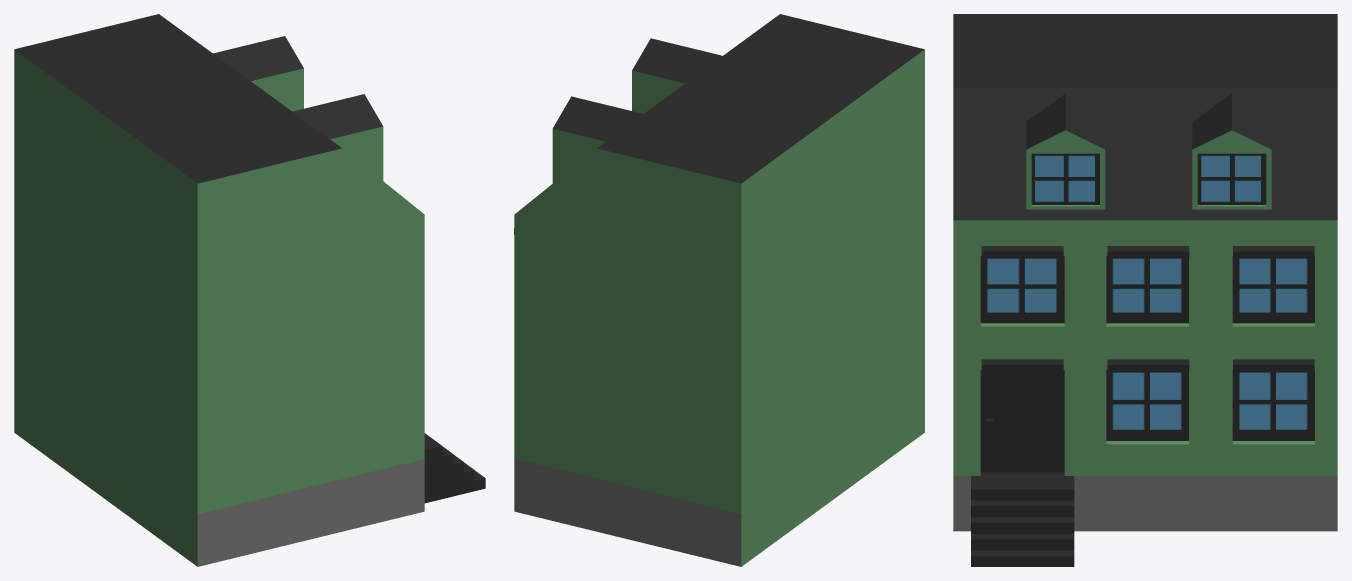
File: NormalSquereGreen.obj
The picture shows the model from 3 angles, left to right: view 1: azimuth 30°, elevation 25°; view 2: azimuth 150°, elevation 25°; view 3: azimuth 270°, elevation 25°; orthographic projection. The views are drawn at different scales.
Visible parts, largest first — view 1: ZwyklayKwadratowyZielony; view 2: ZwyklayKwadratowyZielony; view 3: ZwyklayKwadratowyZielony.
Boxes of the visible parts, <box> form: ZwyklayKwadratowyZielony: <box>14,14,485,566</box>; ZwyklayKwadratowyZielony: <box>514,14,924,566</box>; ZwyklayKwadratowyZielony: <box>953,14,1337,566</box>.
Bounding box in the file's own units: 6.53 × 8.07 × 7.
